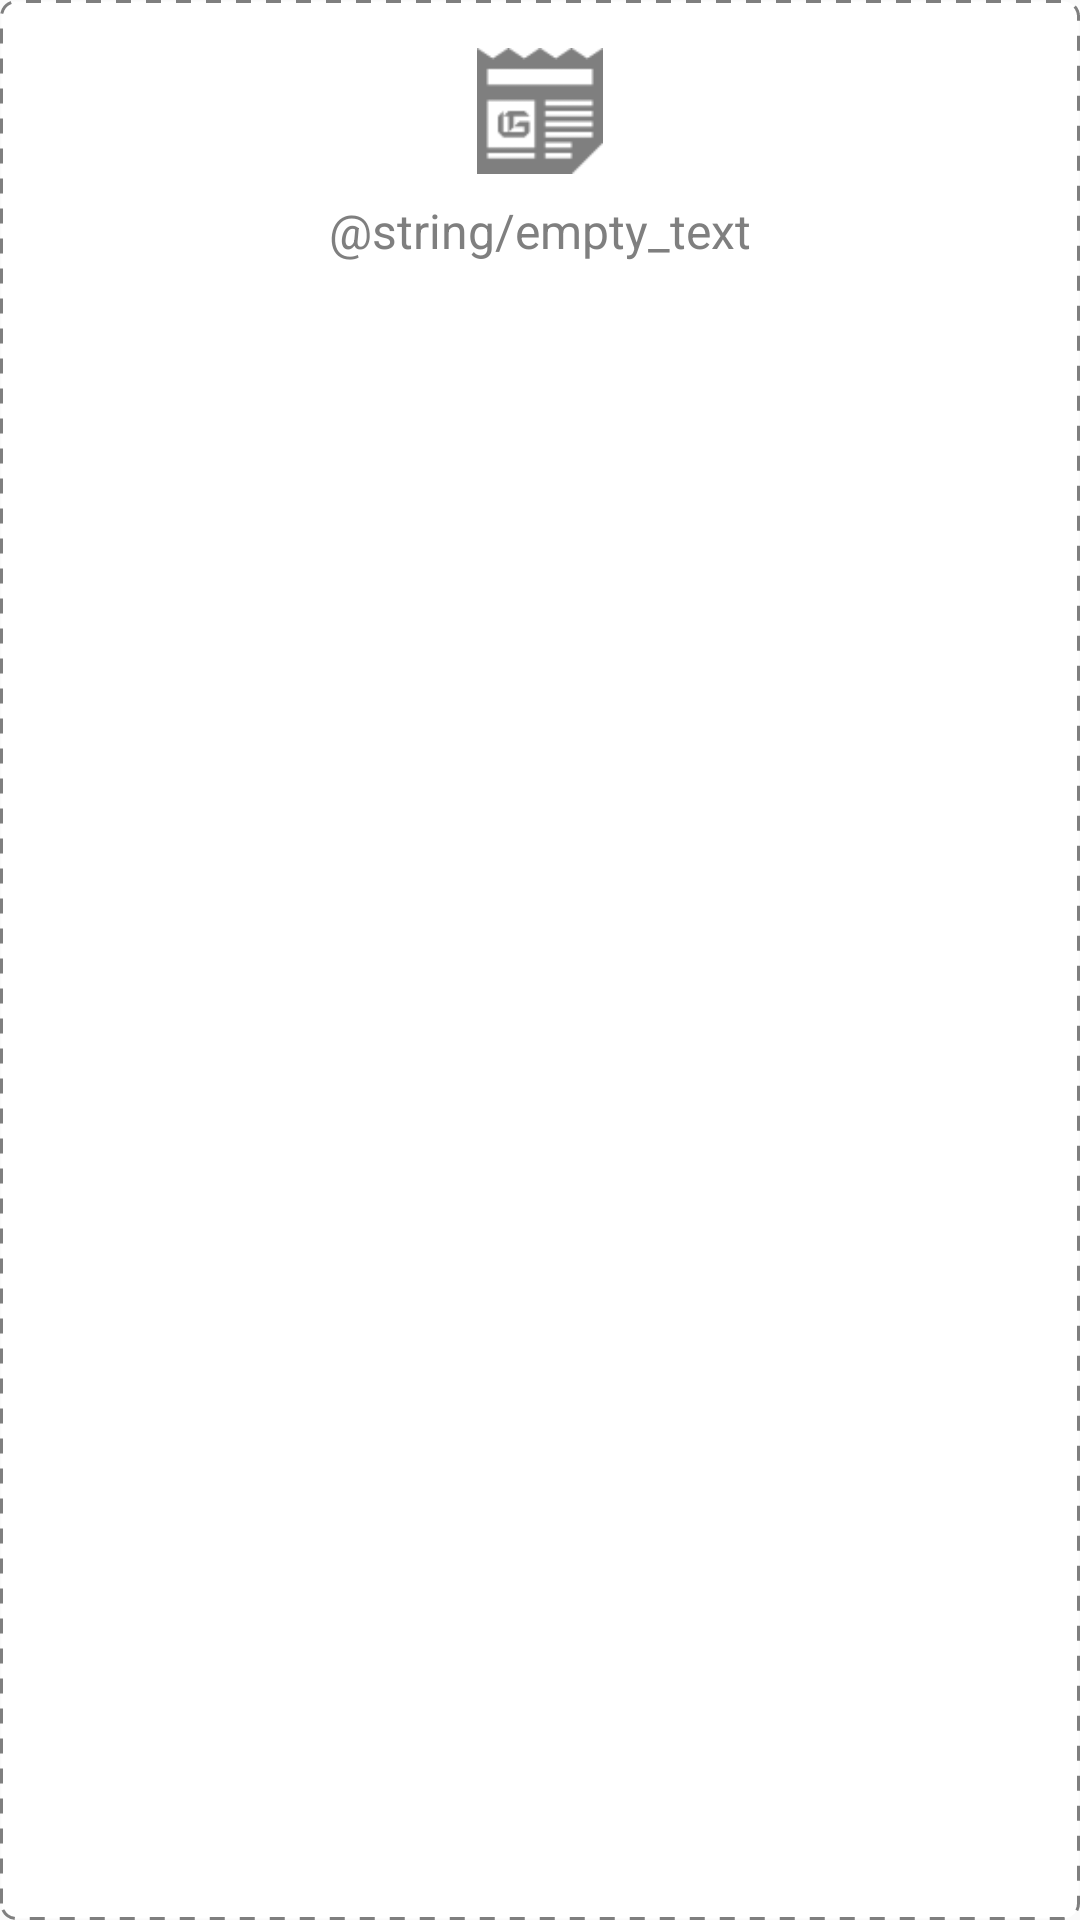

Named icons in this screenshot (1080×1920) and their bounding boxes, {"x1": x1, "y1": y1, "x2": x2, "y2": y2}:
front page: {"x1": 477, "y1": 48, "x2": 603, "y2": 174}
